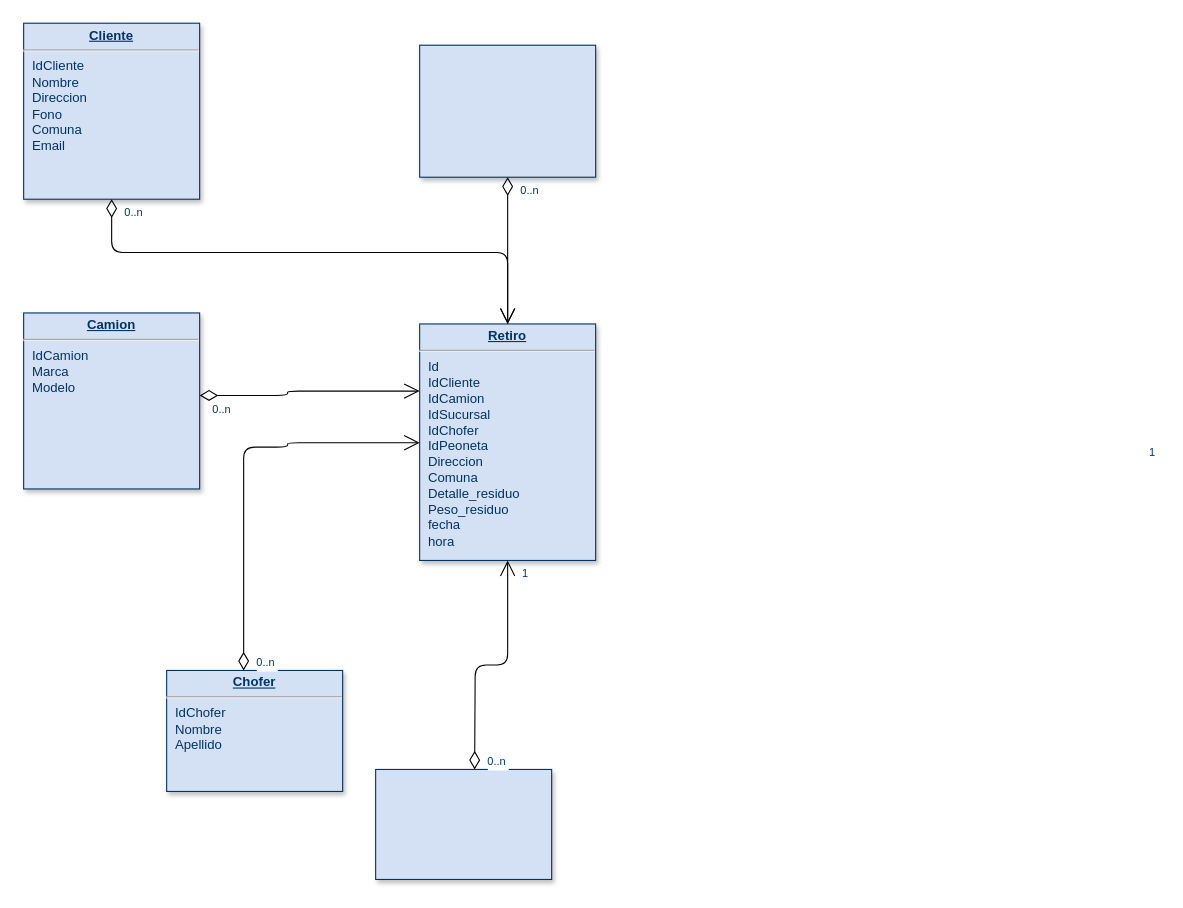
The diagram is 1183 pixels wide and 908 high, and some of its shapes have lost their labels. The centre of each missing label's shape, as x and y in pixels:
Peoneta IdPeoneta Nombre Apellido: the point at 464,825
Sucursal IdSucursal Nombre Direccion Ciudad Fono: the point at 508,112
